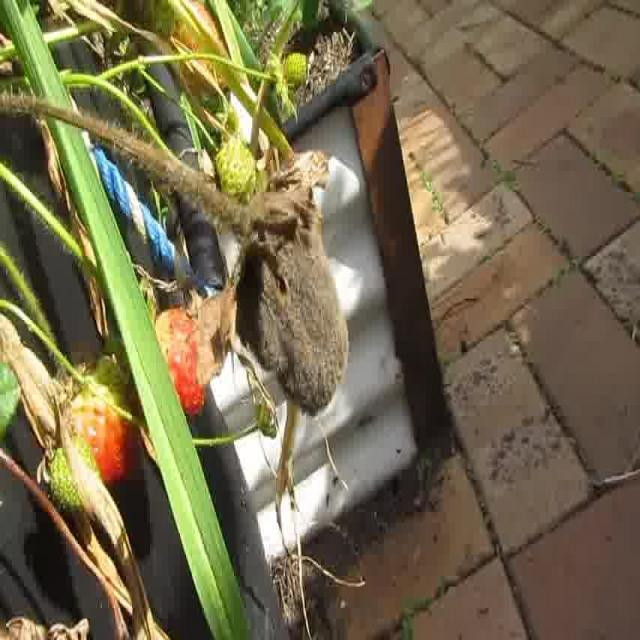Fruta sana: (49, 357, 134, 485), (142, 303, 200, 412)
Moho gris: (234, 190, 351, 410)
